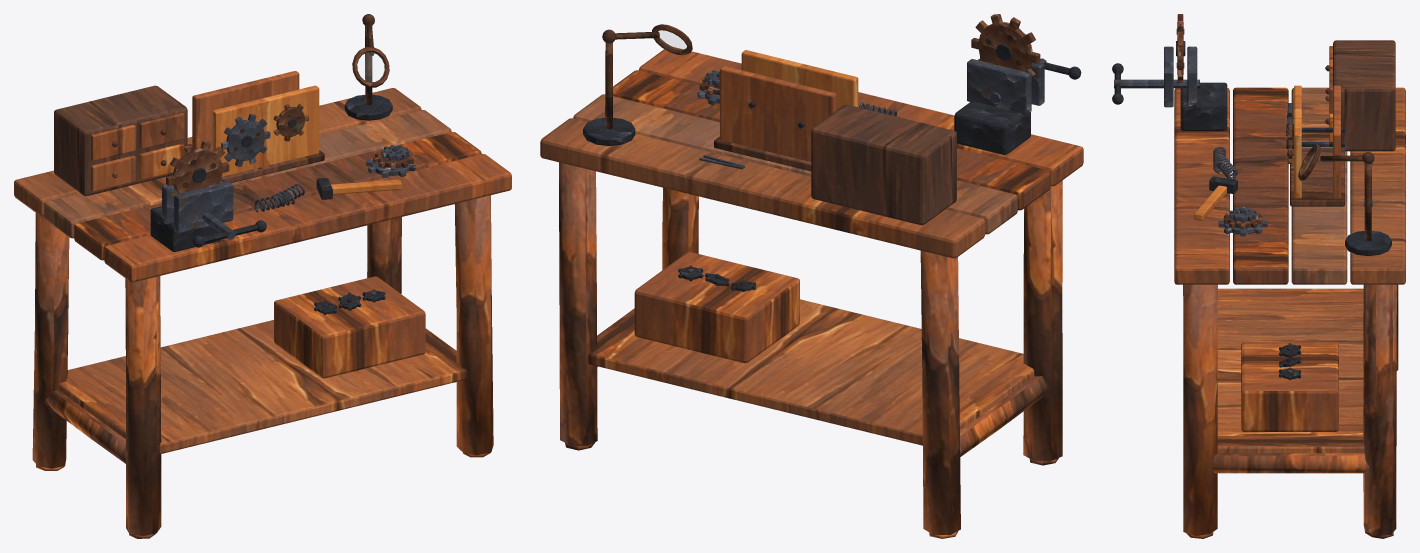
Rendered from op_tinker_bench.glb.
The picture shows the model from 3 angles, left to right: view 1: azimuth 30°, elevation 25°; view 2: azimuth 150°, elevation 25°; view 3: azimuth 270°, elevation 25°; orthographic projection. The views are drawn at different scales.
Parts seen in each view (by area): view 1: model; view 2: model; view 3: model.
Boxes of the visible parts, <box> form: model: <box>14,14,511,538</box>; model: <box>540,14,1083,538</box>; model: <box>1112,14,1405,538</box>.
Size of the model in its own units: 1.1 by 1.07 by 0.751.
Materials: 19 (18 with a texture image).
